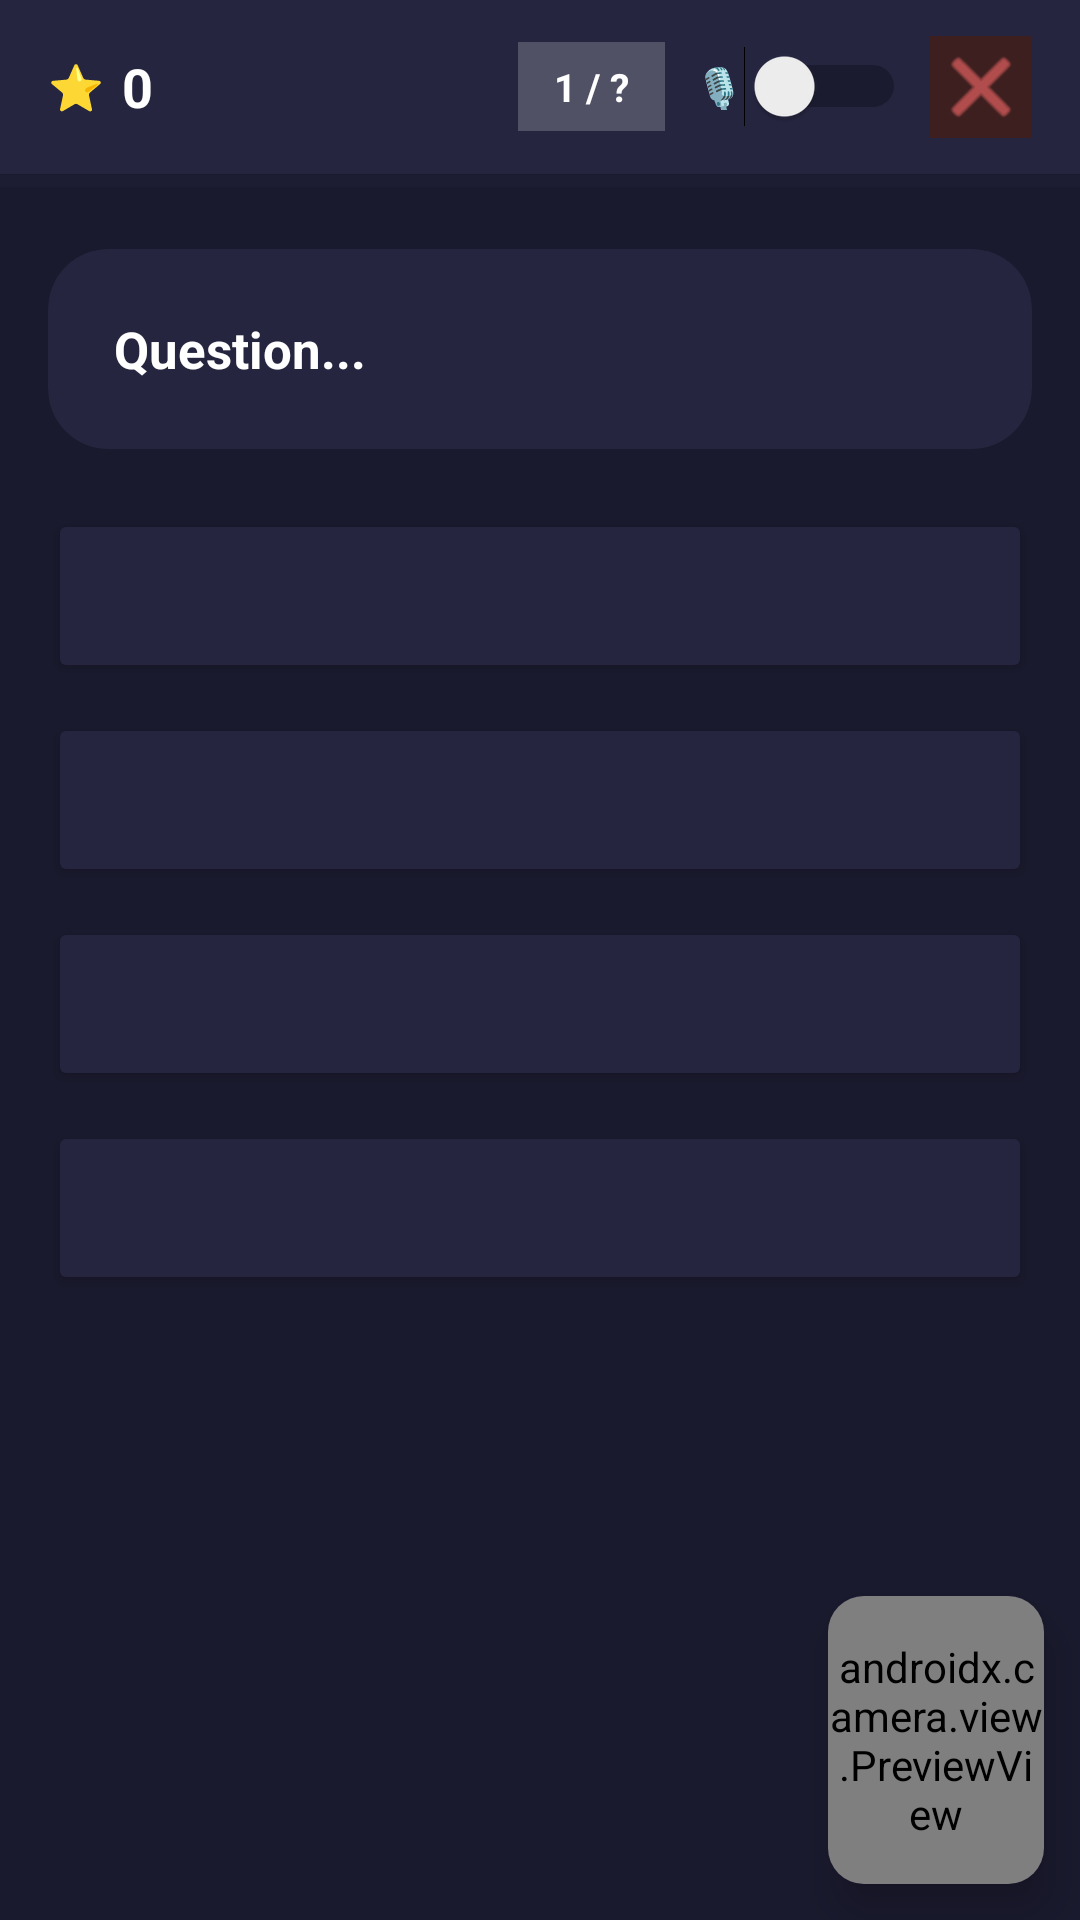

Icons on this 1080w x 1920h Android screen, each with the point to tap as (x,y):
close clear cancel: (981,87)
